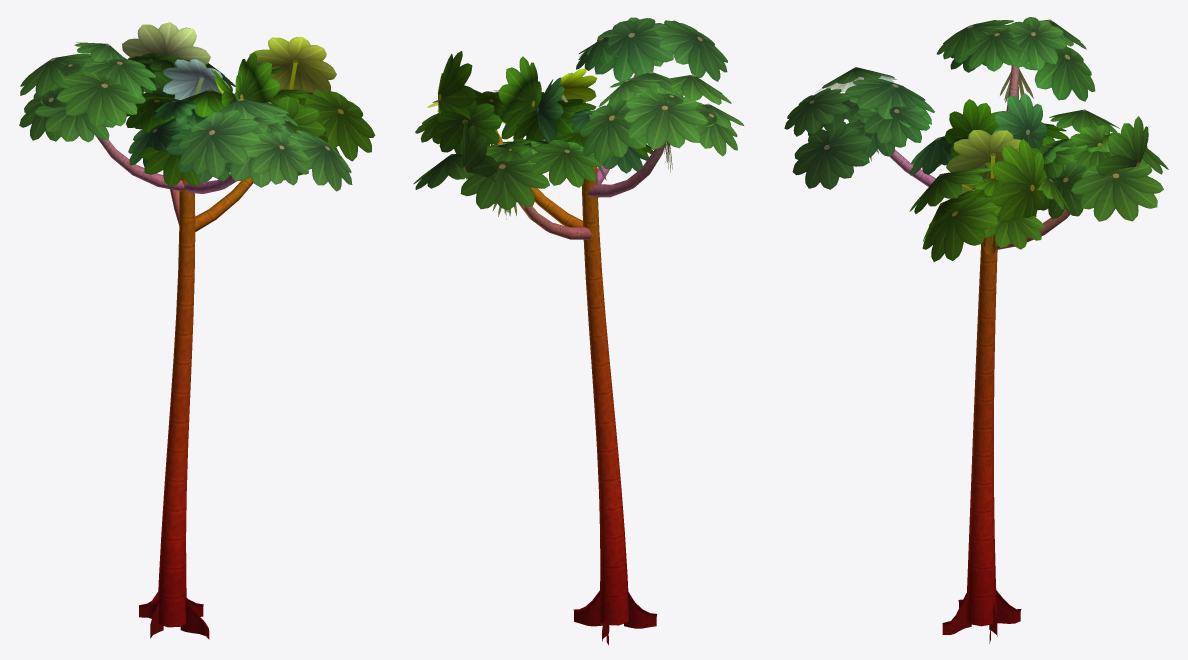
File: yagrumo.glb
3 renders of one model, left to right at view 1: azimuth 30°, elevation 25°; view 2: azimuth 150°, elevation 25°; view 3: azimuth 270°, elevation 25°, orthographic.
Visible parts, largest first — view 1: yagrumo; view 2: yagrumo; view 3: yagrumo.
Boxes of the visible parts, left/top/right/bottom form: yagrumo: left=19, top=22, right=375, bottom=639; yagrumo: left=413, top=17, right=743, bottom=645; yagrumo: left=784, top=17, right=1168, bottom=643.
Bounding box in the file's own units: 4.88 × 8.11 × 5.
Materials: 2 (2 with a texture image).
